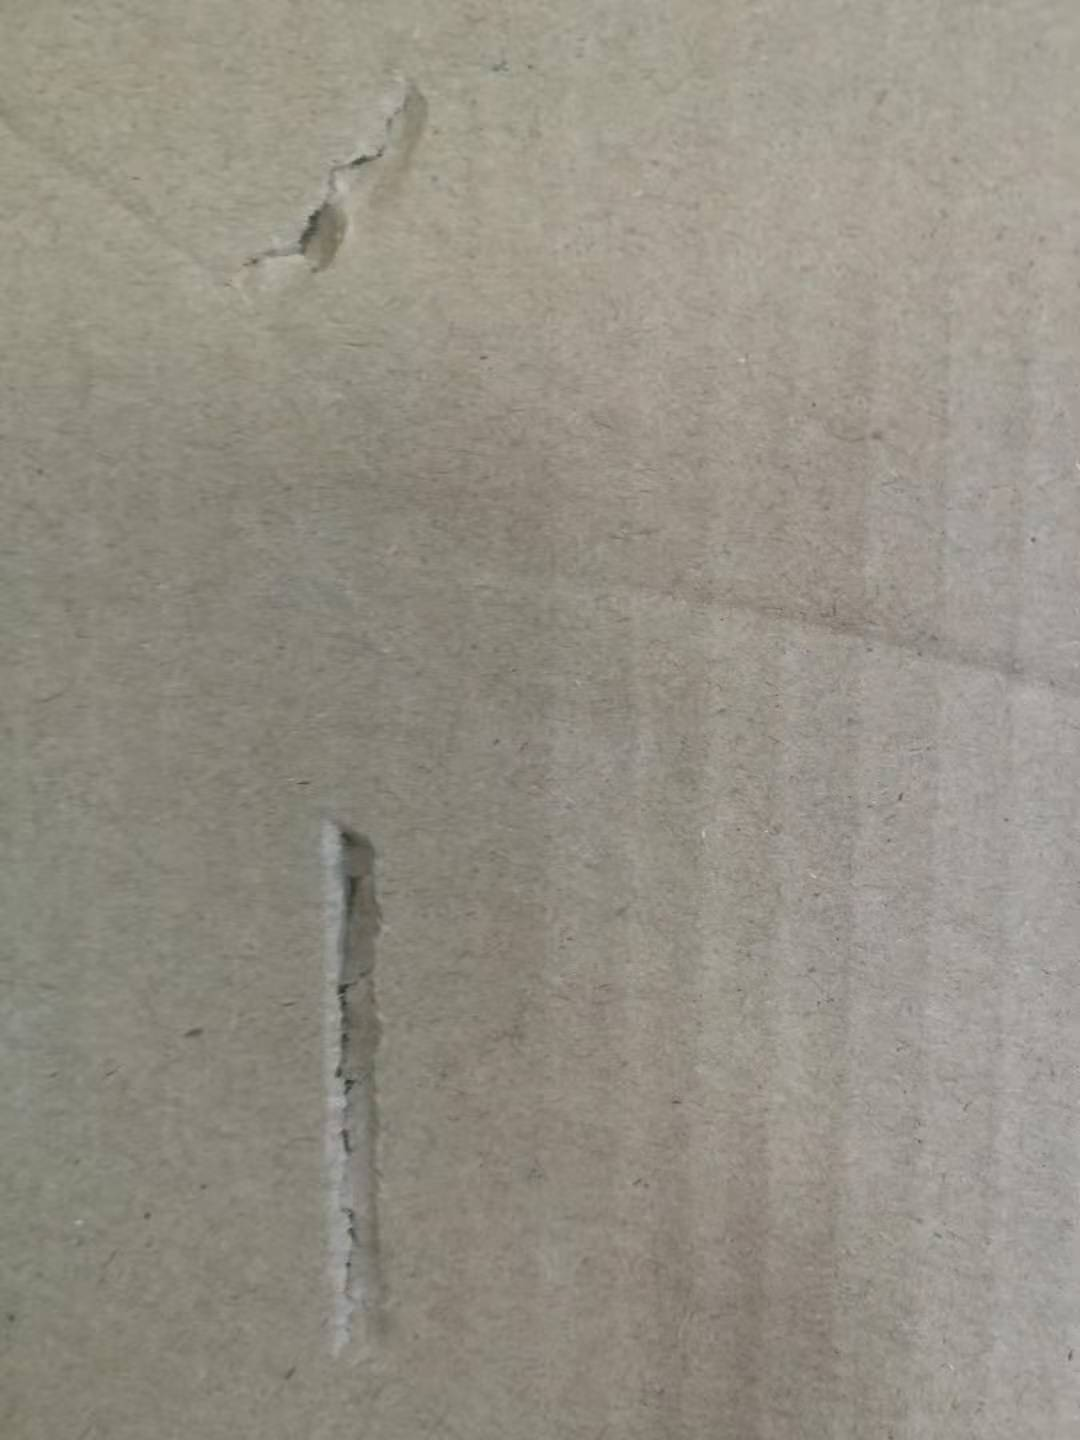defect: (474, 495, 1080, 735), (275, 801, 455, 1392), (183, 39, 475, 327), (1, 81, 272, 299)
